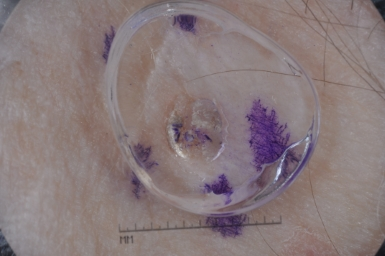seborrheic keratosis: (149, 72, 238, 176)
